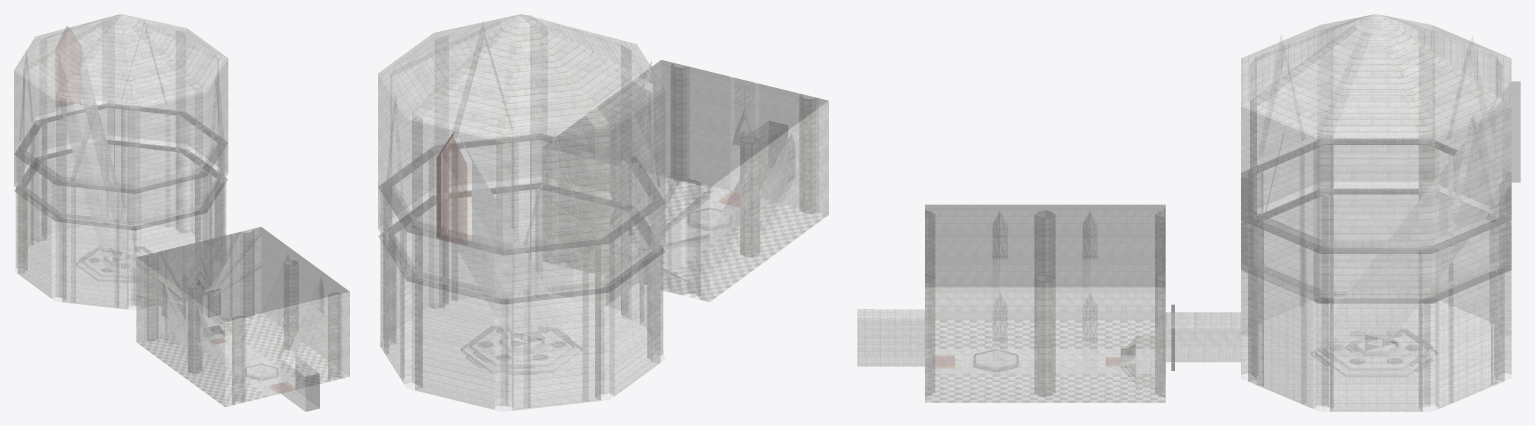
The picture shows the model from 3 angles, left to right: view 1: azimuth 30°, elevation 25°; view 2: azimuth 150°, elevation 25°; view 3: azimuth 270°, elevation 25°; orthographic projection. The views are drawn at different scales.
Visible parts, largest first — view 1: TempleofTime; view 2: TempleofTime; view 3: TempleofTime.
Boxes of the visible parts, x1,y1,x2,y2 form: TempleofTime: (14,14,349,411); TempleofTime: (378,14,828,411); TempleofTime: (857,14,1520,411).
Size of the model in its own units: 576 by 816 by 1411.
35 materials, 35 textured.
